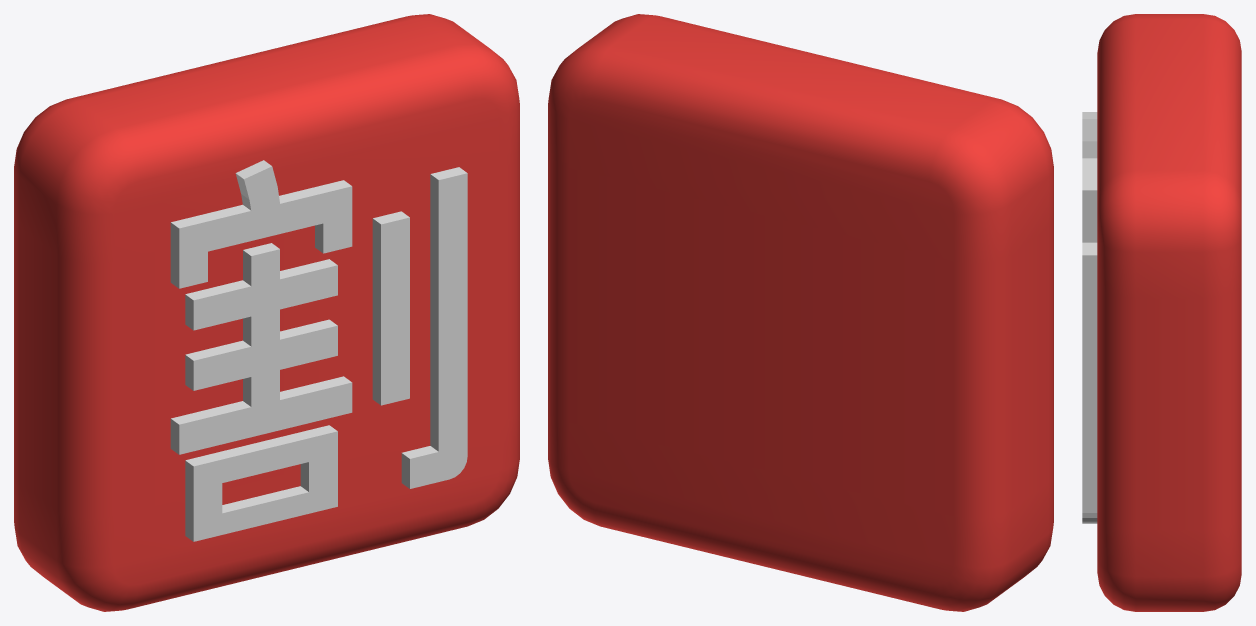
Rendered from japanese_discount_button.gltf.
The picture shows the model from 3 angles, left to right: view 1: azimuth 30°, elevation 25°; view 2: azimuth 150°, elevation 25°; view 3: azimuth 270°, elevation 25°; orthographic projection. The views are drawn at different scales.
Parts seen in each view (by area): view 1: Cube.6654, Plane.403; view 2: Cube.6654; view 3: Cube.6654, Plane.403.
Part boxes in pixels (bbox=[...]): Cube.6654: bbox=[14, 14, 519, 611]; Plane.403: bbox=[170, 160, 467, 541]; Cube.6654: bbox=[548, 14, 1053, 611]; Cube.6654: bbox=[1097, 14, 1241, 611]; Plane.403: bbox=[1082, 112, 1097, 523].
Bounding box in the file's own units: 2.2 × 2.2 × 0.73.
Materials: 1 (1 with a texture image).
